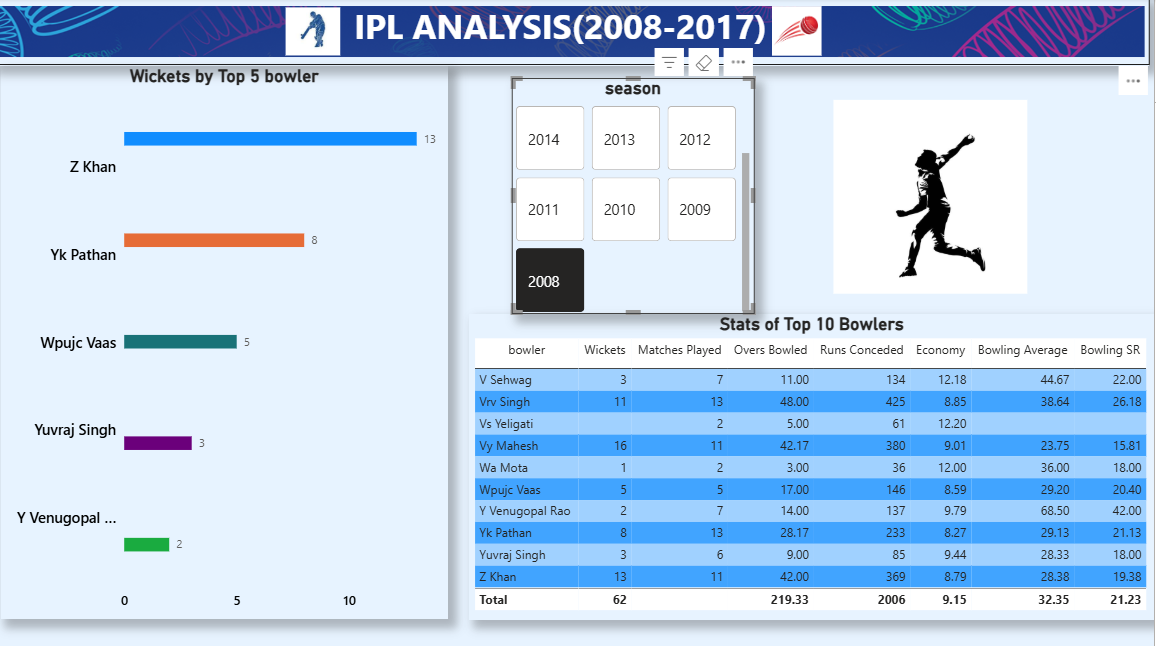

Layout of this report page (visuals, bound fields, positions):
{"tool":"powerbi","page":{"name":"Page 3","canvas":[1280,720],"ordinal":2},"visuals":[{"type":"image","box":[4.1,0,1270.7,74.1],"z":0},{"type":"textbox","box":[369.1,0,518.7,64.5],"z":1000},{"type":"clusteredBarChart","title":"Wickets by Top 5 bowler","fields":{"Y":["deliveries - deliveries csv.Wickets"],"Category":["deliveries - deliveries csv.bowler"],"Series":["deliveries - deliveries csv.bowler"]},"box":[13.7,74.1,491.3,607.9],"z":2000},{"type":"image","box":[311.4,5.7,90,62.9],"z":3000},{"type":"tableEx","title":"Stats of Top 10 Bowlers","fields":{"Values":["deliveries - deliveries csv.bowler","deliveries - deliveries csv.Wickets","deliveries - deliveries csv.Matches Played","deliveries - deliveries csv.Overs Bowled","deliveries - deliveries csv.Runs Conceded","deliveries - deliveries csv.Economy","deliveries - deliveries csv.Bowling Average","deliveries - deliveries csv.Bowling SR"]},"box":[528.3,347.2,752,334.8],"z":3001},{"type":"advancedSlicerVisual","fields":{"Values":["matches.season"]},"box":[575,87.8,266.2,259.3],"z":3002},{"type":"image","box":[794.5,107,480.3,222.3],"z":3003},{"type":"image","box":[738.3,4.1,299.1,64.5],"z":3004}]}

Visuals, with their boxes in screenshot pixels (x1, y1, x2, y2), scaled from the page's 1280x720 canvas onto the 1156x646 screenshot:
image: 4,0,1151,66
textbox: 333,0,802,58
"Wickets by Top 5 bowler" clusteredBarChart: 12,66,456,612
image: 281,5,363,62
"Stats of Top 10 Bowlers" tableEx: 477,312,1155,612
advancedSlicerVisual - matches.season: 519,79,760,311
image: 718,96,1151,295
image: 667,4,937,62
